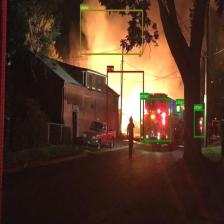fire: (107, 71, 144, 139)
smoke: (80, 9, 143, 54)
